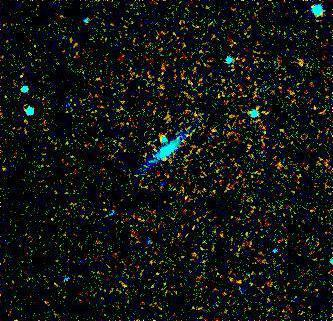star: (149, 149, 179, 179)
